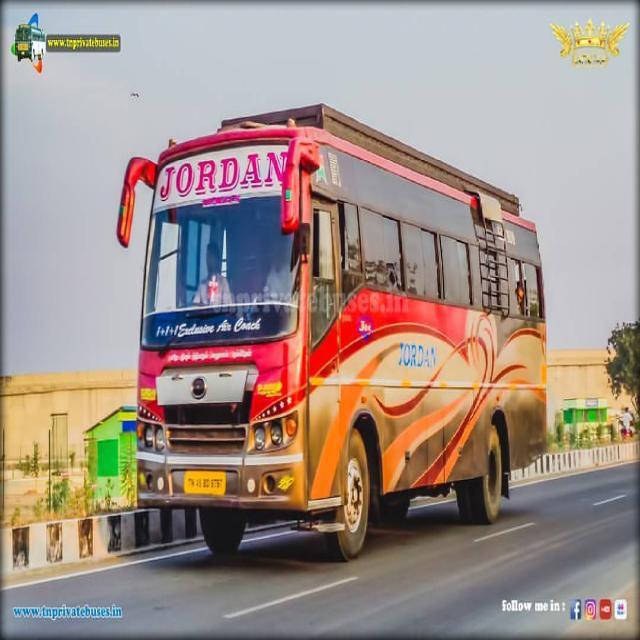Bus: (114, 96, 551, 566)
